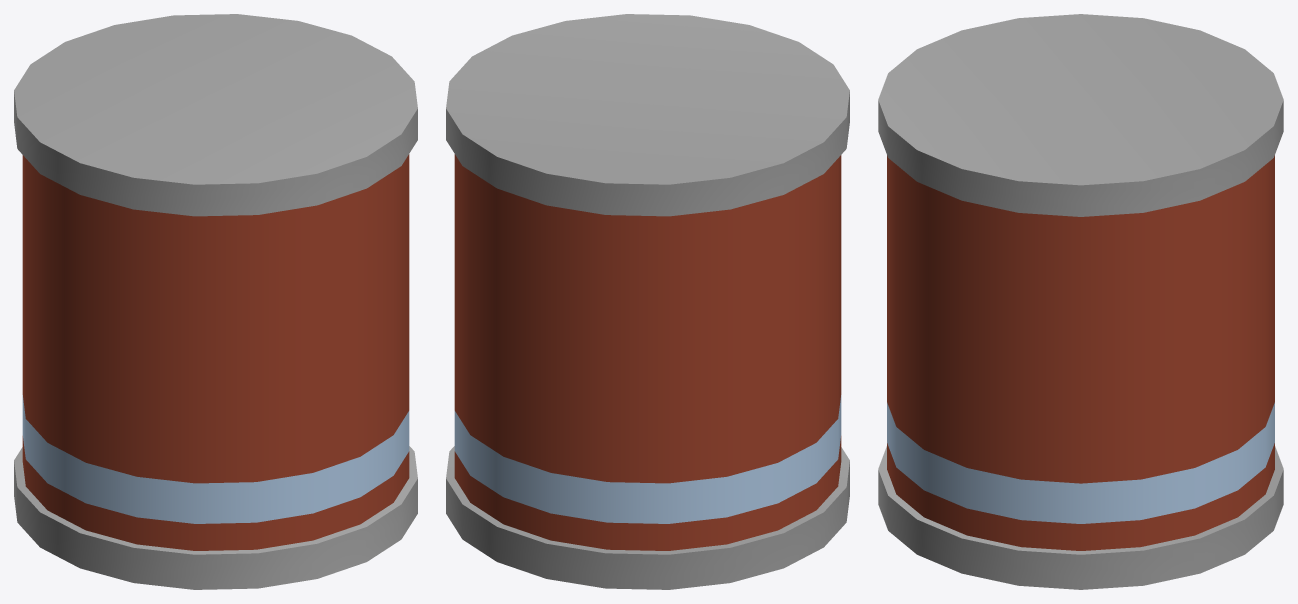
The model's file is Ürün34.fbx.
3 views of the same model, side by side, from view 1: azimuth 30°, elevation 25°; view 2: azimuth 150°, elevation 25°; view 3: azimuth 270°, elevation 25° (orthographic).
Visible parts, largest first — view 1: pCylinder19; view 2: pCylinder19; view 3: pCylinder19.
Part boxes in pixels (<box>): pCylinder19: <box>14,14,417,589</box>; pCylinder19: <box>446,14,849,589</box>; pCylinder19: <box>878,14,1283,589</box>.
Bounding box in the file's own units: 9.51 × 10.47 × 9.51.
